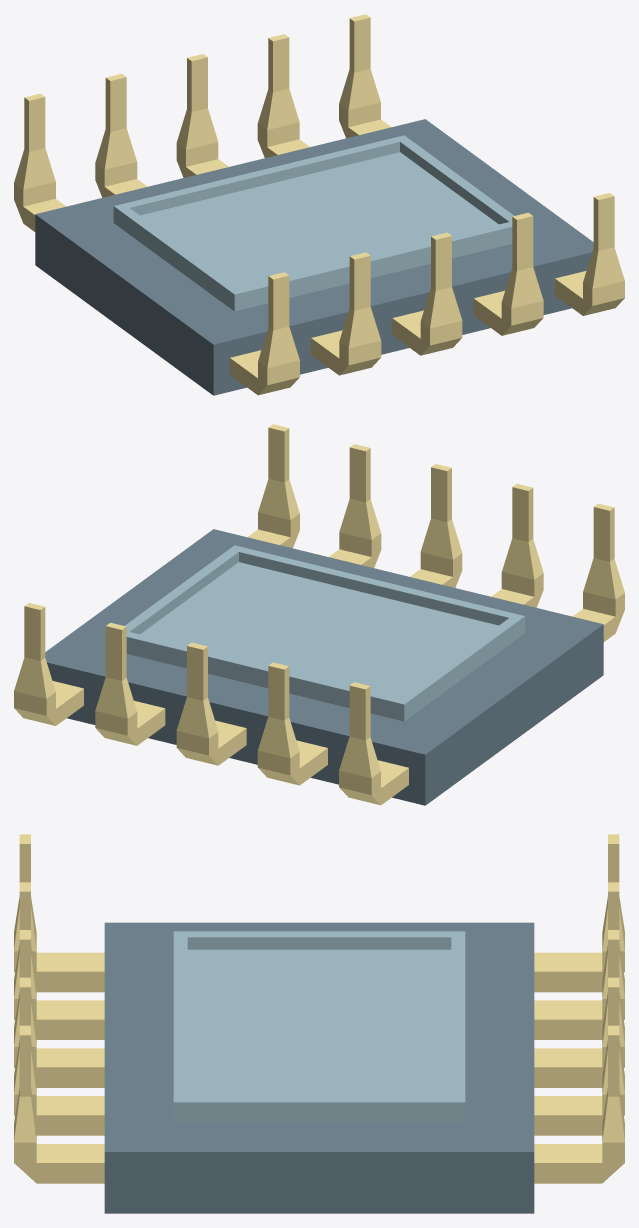
The model's file is chip.fbx.
The picture shows the model from 3 angles, top to bottom: view 1: azimuth 30°, elevation 25°; view 2: azimuth 150°, elevation 25°; view 3: azimuth 270°, elevation 25°; orthographic projection. The views are drawn at different scales.
Parts seen in each view (by area): view 1: chip; view 2: chip; view 3: chip.
Boxes of the visible parts, bbox=[...] form: chip: bbox=[14, 14, 624, 395]; chip: bbox=[14, 424, 624, 805]; chip: bbox=[14, 834, 624, 1213].
Size of the model in its own units: 12 by 4 by 13.5.
